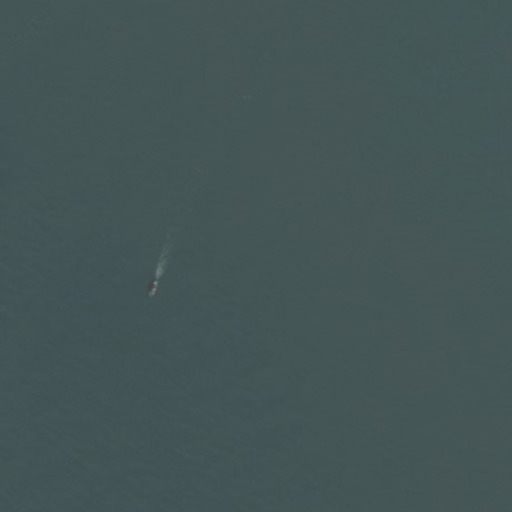ship: (147, 277, 162, 301)
